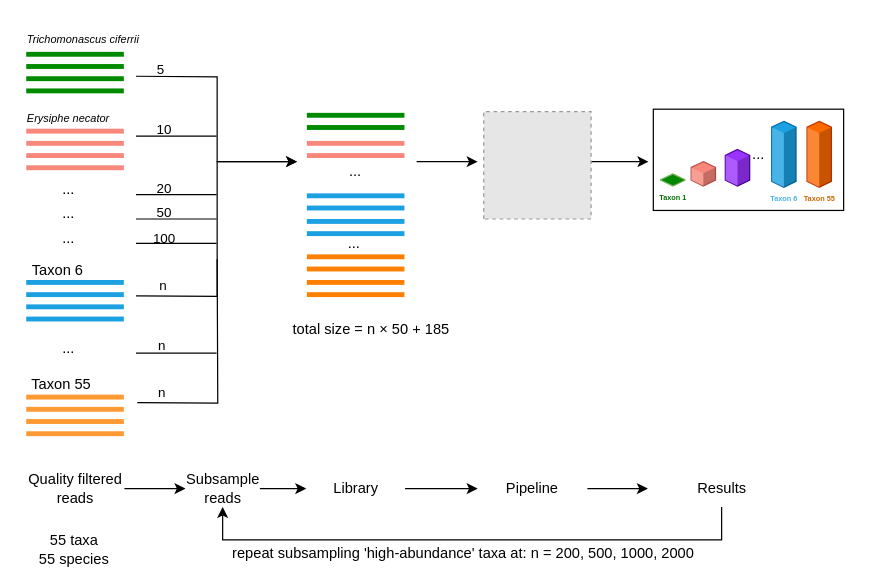
Image size: 888x588. Some labels were removed from this diagram. Grey dashed boxes stand in for pictures. The centre of each missing label's shape, as x and y in pixels:
Taxon 2: the point at 703,173
Taxon 3: the point at 737,167
